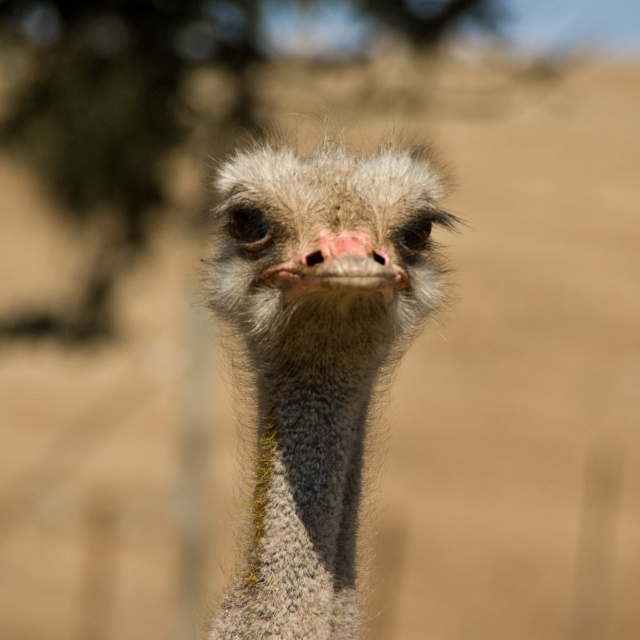Ostrich: (178, 144, 460, 640)
